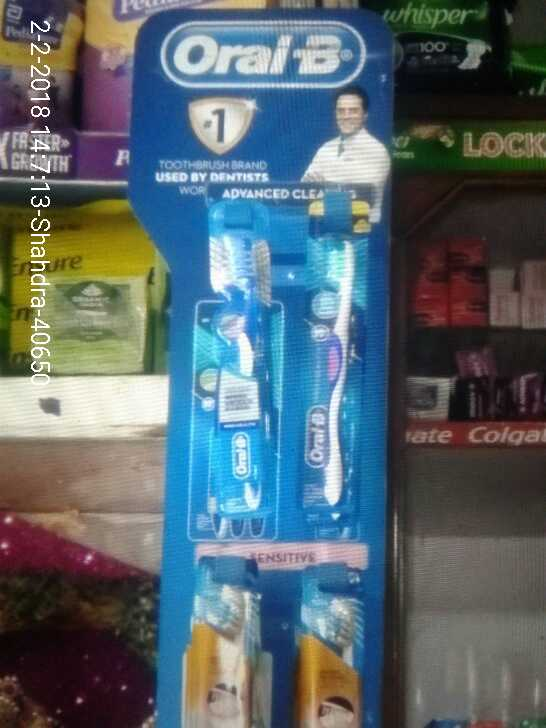oralb: (197, 223, 277, 524), (309, 230, 359, 513)
